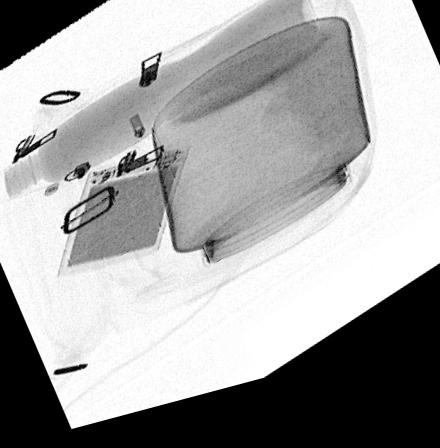Powerbank: (55, 153, 192, 280)
